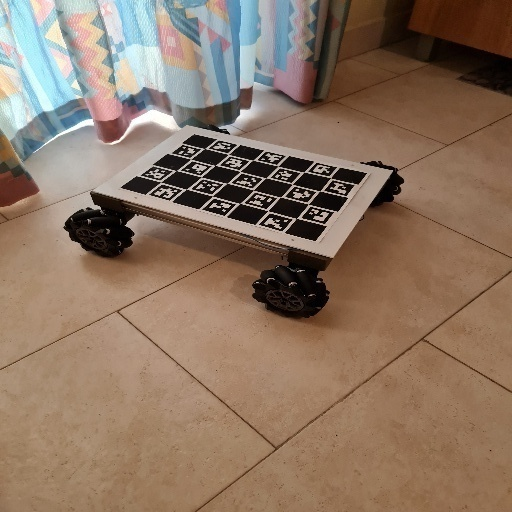Omniwheel: (63, 121, 407, 322)
